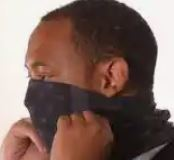with_facemask: (19, 79, 96, 143)
